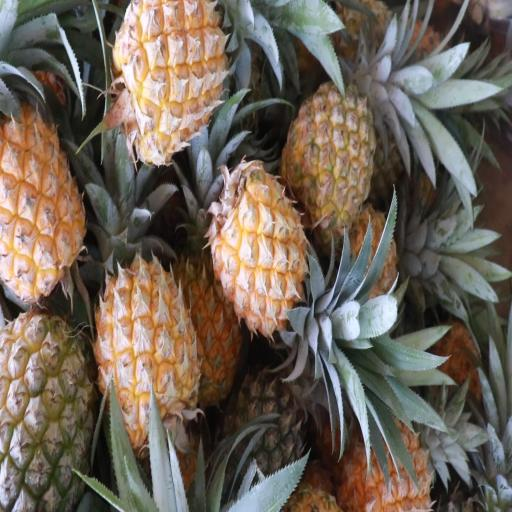------------------------------: (0, 307, 95, 510), (284, 84, 373, 227)
Pineapple - v8 v1: (112, 0, 230, 161), (99, 265, 199, 441), (214, 164, 312, 340), (0, 117, 91, 304), (345, 397, 435, 512), (179, 251, 244, 406)
